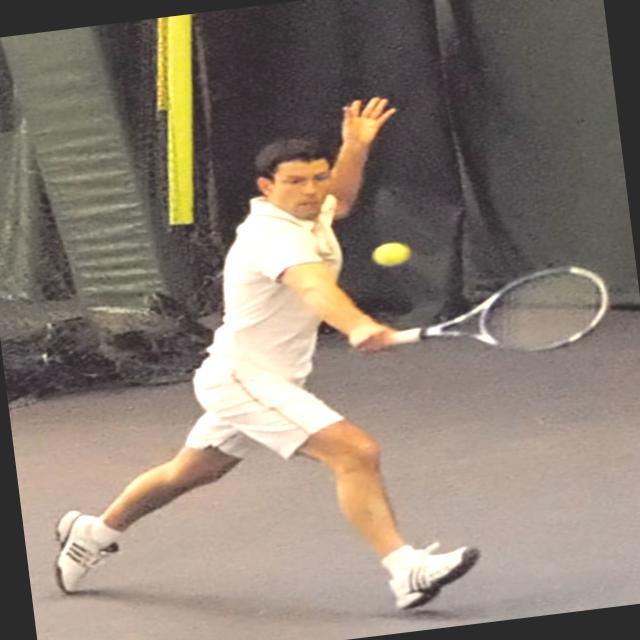Tennis ball: (372, 240, 410, 268)
